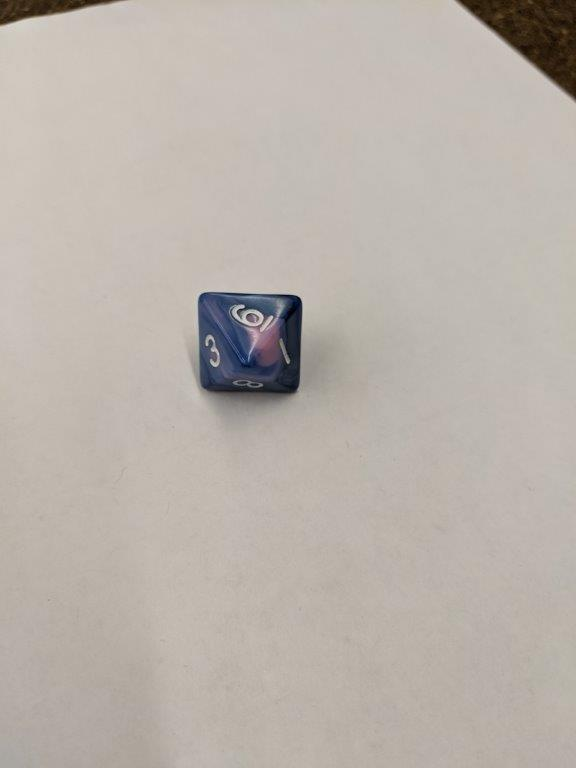d8-6: (192, 288, 305, 401)
